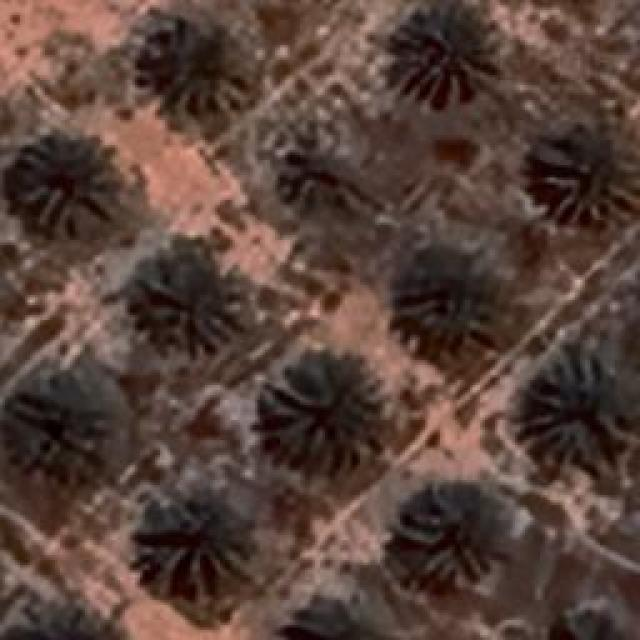PalmTree: (106, 47, 338, 616), (260, 348, 385, 468), (512, 352, 630, 460), (380, 0, 500, 102), (390, 482, 502, 588), (145, 15, 253, 120), (15, 130, 120, 235), (138, 488, 252, 582), (137, 260, 245, 348), (410, 257, 505, 355), (540, 123, 635, 220), (275, 126, 364, 221), (7, 607, 122, 640), (546, 605, 638, 640)
